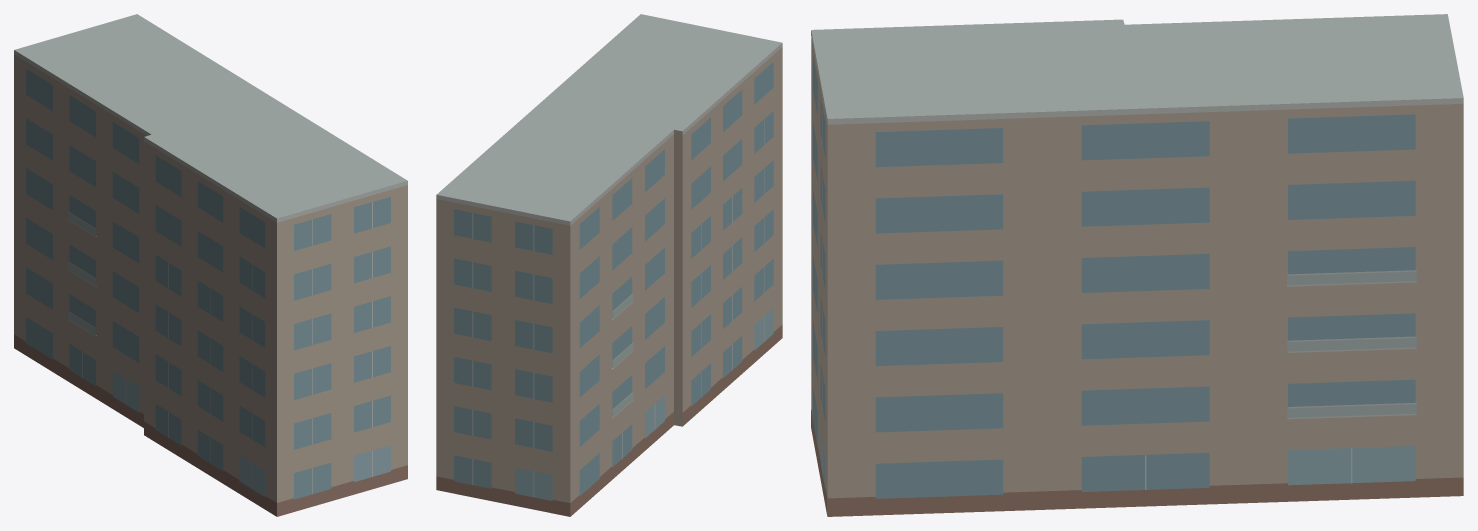
File: survey-upis-32757157.glb
The picture shows the model from 3 angles, left to right: view 1: azimuth 30°, elevation 25°; view 2: azimuth 150°, elevation 25°; view 3: azimuth 270°, elevation 25°; orthographic projection. The views are drawn at different scales.
Parts seen in each view (by area): view 1: survey-upis-32757157.tmp; view 2: survey-upis-32757157.tmp; view 3: survey-upis-32757157.tmp.
Boxes of the visible parts, box(x1,y1,x2,y2) form: survey-upis-32757157.tmp: box(14, 14, 407, 516); survey-upis-32757157.tmp: box(436, 14, 782, 516); survey-upis-32757157.tmp: box(811, 14, 1463, 516).
Size of the model in its own units: 9.69 by 17.1 by 25.43.
